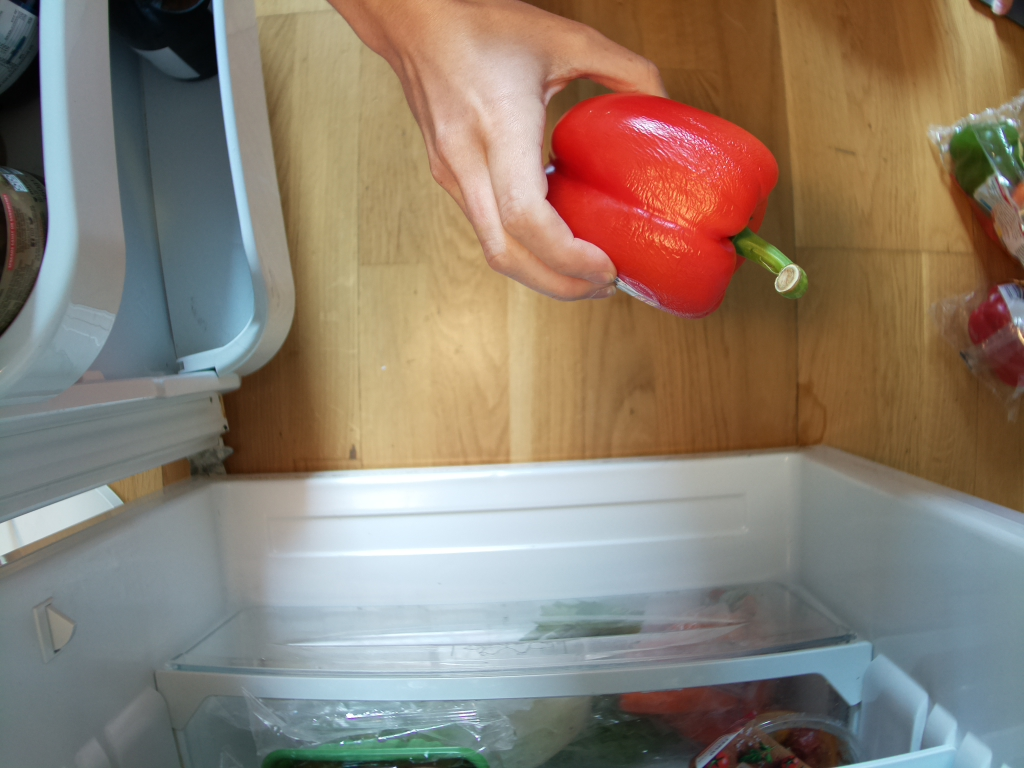pepper-bad: (541, 76, 815, 328)
